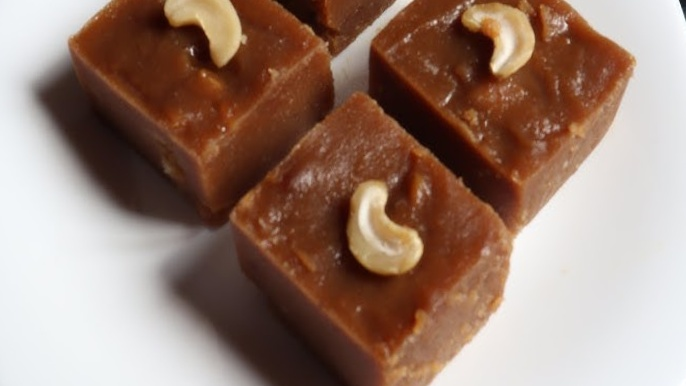dodol: (225, 84, 513, 386), (367, 0, 638, 248), (66, 0, 338, 222)
